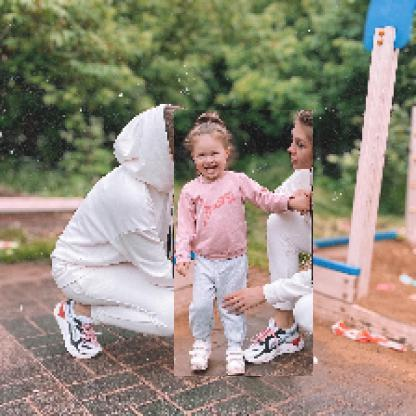child: (175, 111, 315, 378)
